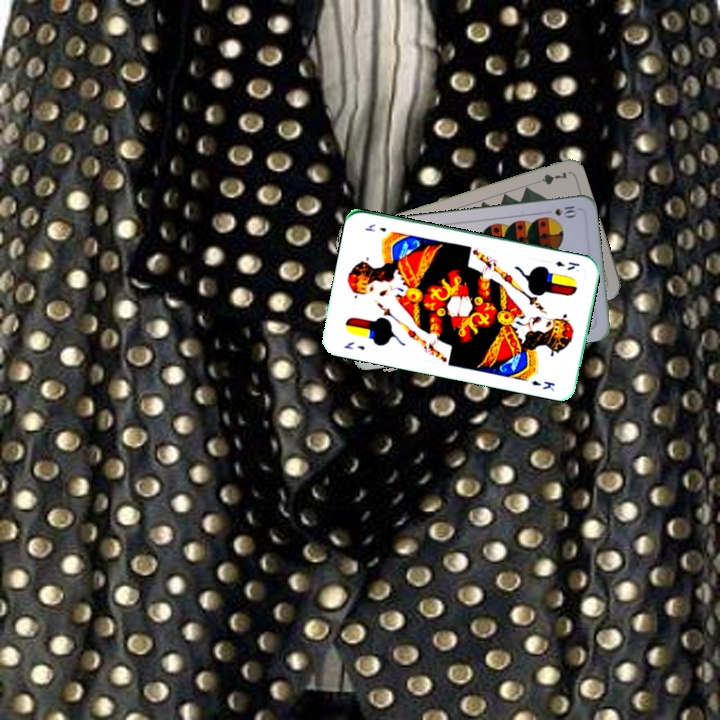EK: (551, 257, 582, 273), (340, 338, 367, 353)
G7: (529, 167, 570, 187)
S10: (540, 201, 580, 219)
